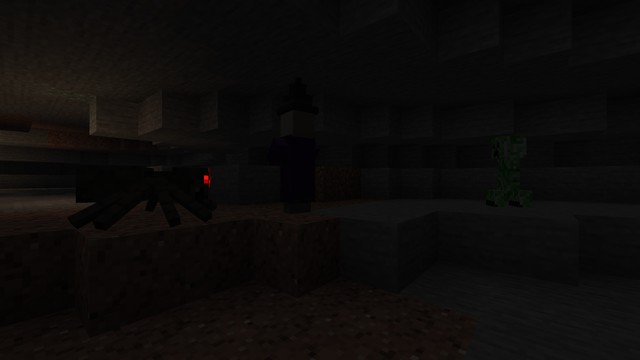araignees: (94, 156, 226, 231)
creepers: (491, 130, 524, 207)
sorcieres: (275, 104, 319, 215)
